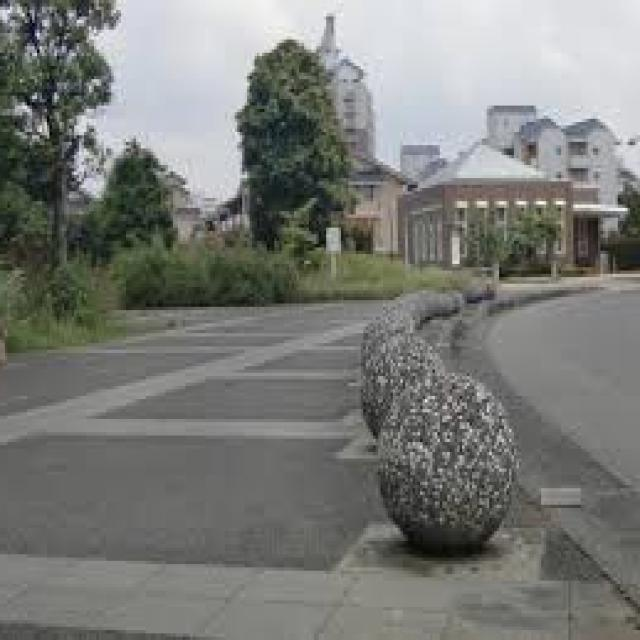bollard: (374, 369, 526, 568), (359, 330, 452, 451), (358, 319, 414, 385)
